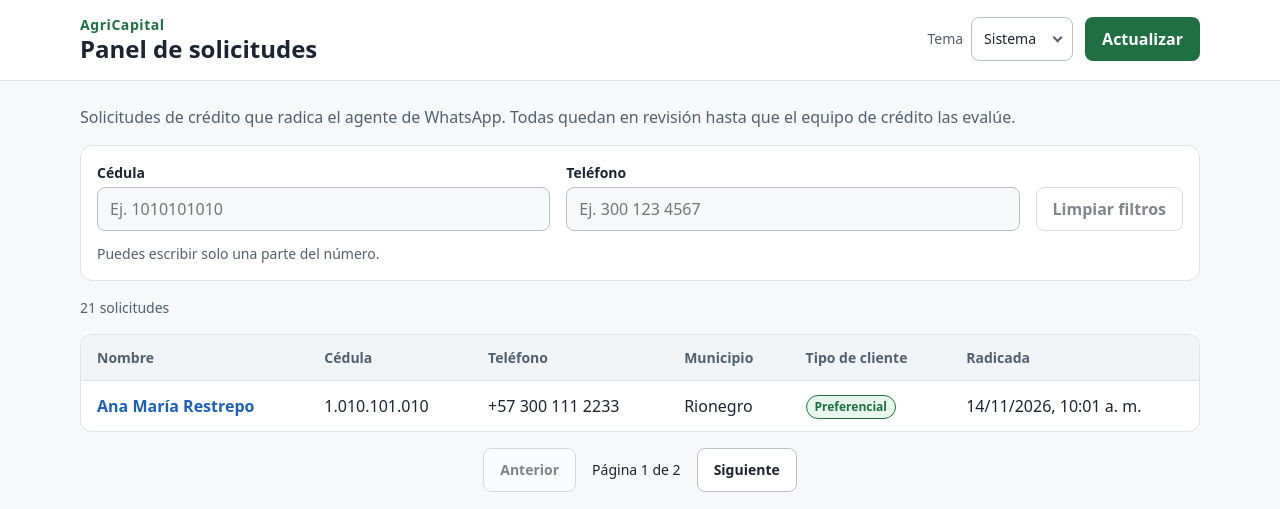
Test: Panel de solicitudes › si la página actual queda vacía al actualizar, salta a la última que existe
What coordinates should you click on to do the following:
click the button "Siguiente"
I would click on:
 (747, 470)
Its box is [697, 448, 797, 492].
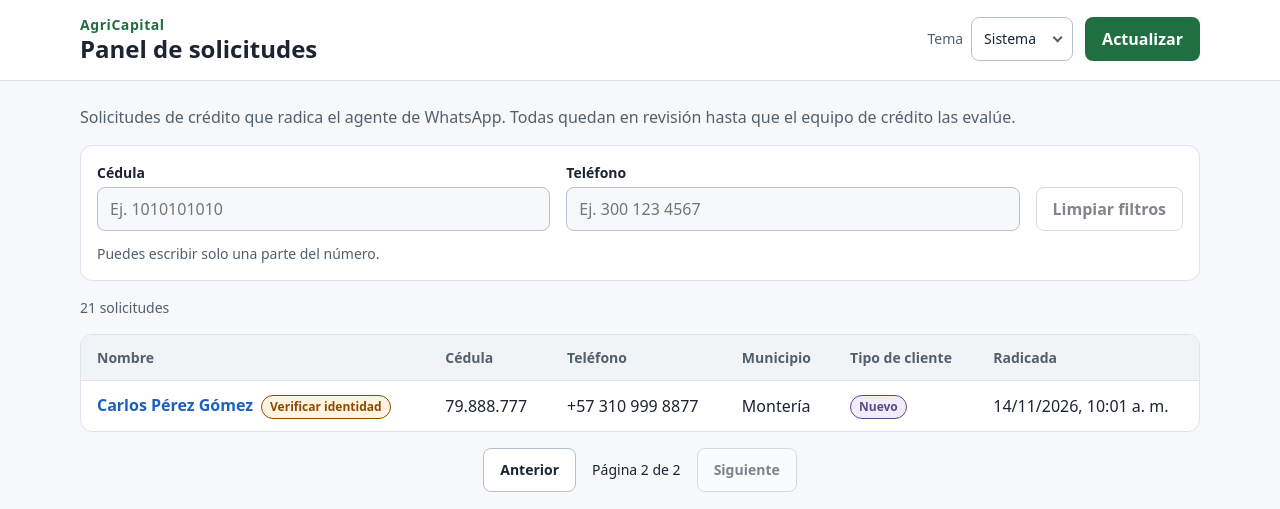
Check: the text "Página 2 de 2" is shown, box [592, 459, 681, 480]
What coordinates should you click on to do the following:
click the button "Actualizar"
I would click on:
 (1143, 39)
Its box is [1085, 17, 1200, 61].
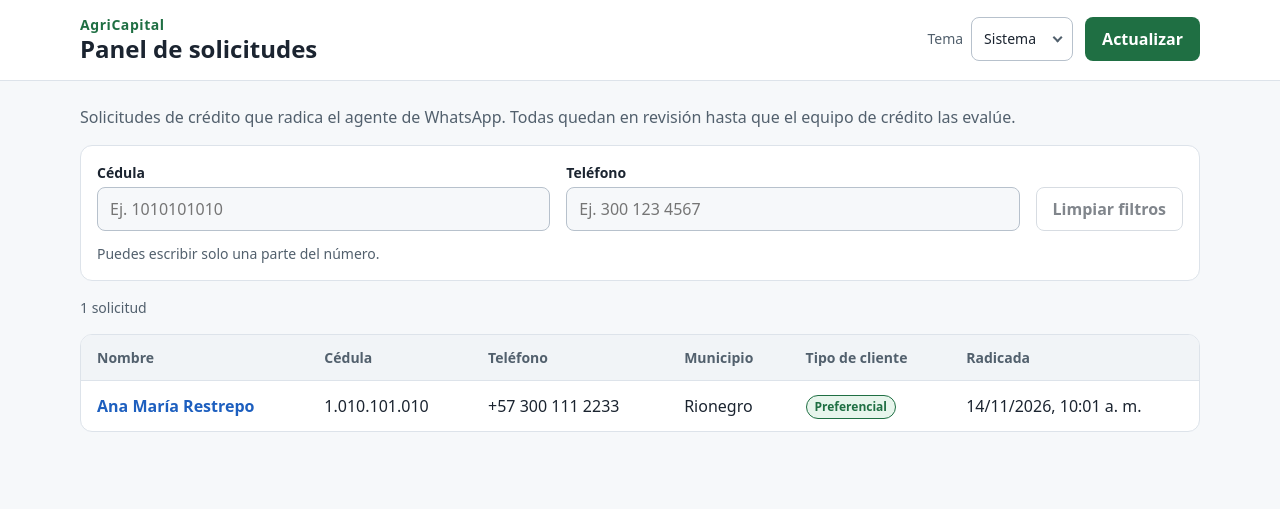
Check: the button "Ana María Restrepo" is shown, box [97, 394, 254, 418]
Check: the navigation bar "Paginación" is gone
